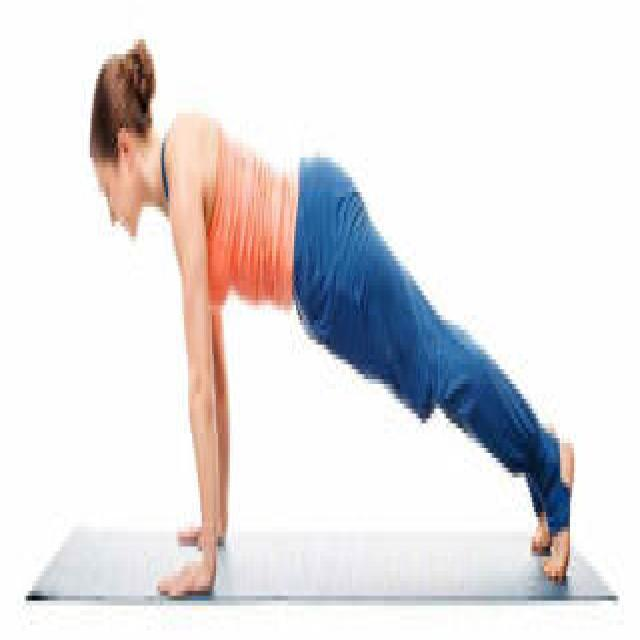yoga-pose plank: (91, 38, 576, 598)
